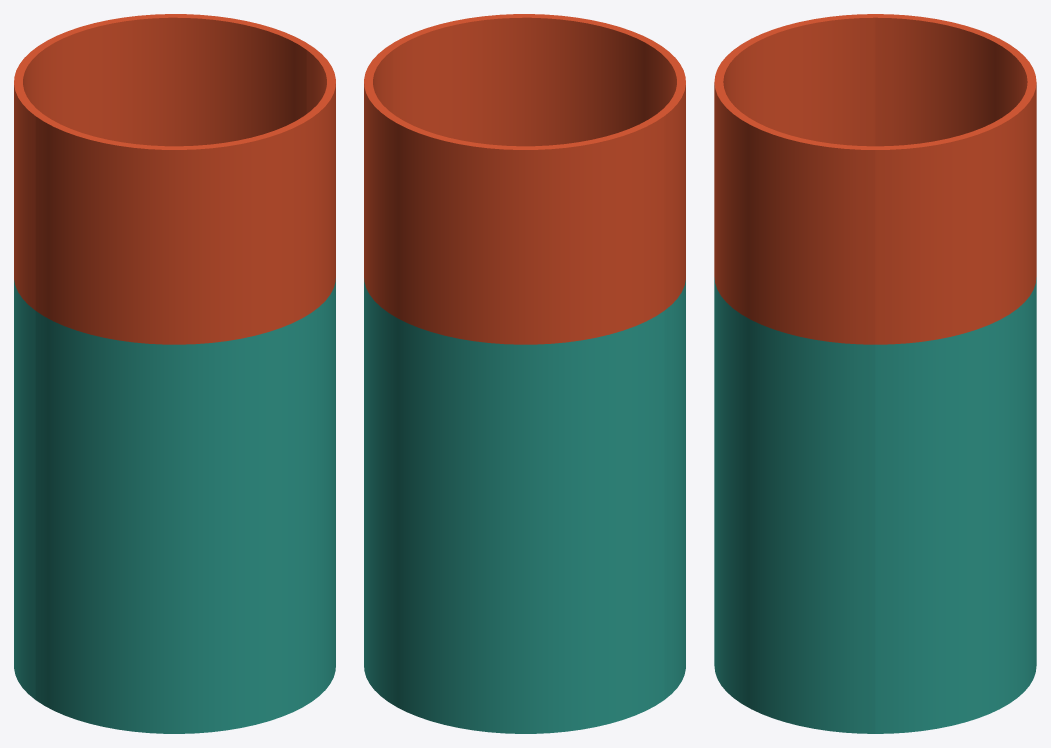
Rendered from molecular_sieve_adsorber_temperature.glb.
3 views of the same model, side by side, from view 1: azimuth 30°, elevation 25°; view 2: azimuth 150°, elevation 25°; view 3: azimuth 270°, elevation 25° (orthographic).
Visible parts, largest first — view 1: temperature__front, temperature__back; view 2: temperature__back, temperature__front; view 3: temperature__back, temperature__front.
Boxes of the visible parts, x1=… form: temperature__front: x1=35, y1=48, x2=335, y2=733; temperature__back: x1=14, y1=14, x2=313, y2=699; temperature__back: x1=364, y1=48, x2=664, y2=733; temperature__front: x1=386, y1=14, x2=685, y2=699; temperature__back: x1=875, y1=14, x2=1036, y2=733; temperature__front: x1=714, y1=14, x2=875, y2=733.
Bounding box in the file's own units: 0.9 × 1.8 × 0.9.
